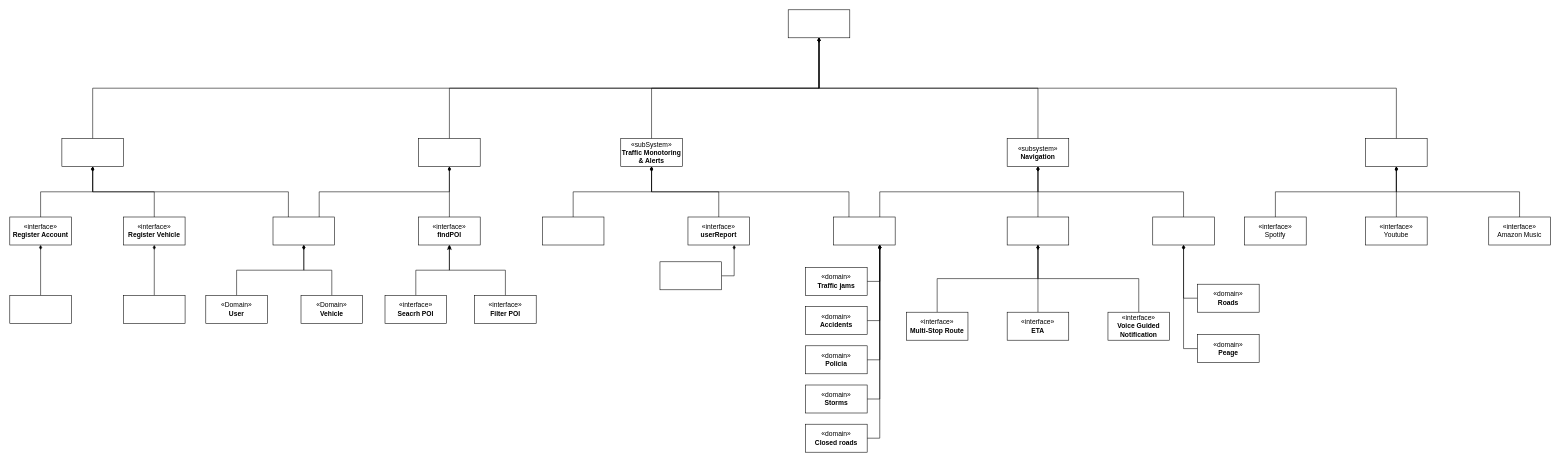
Image size: 1560x462. Some labels were removed from this diagram. Each missing label, with the centre of its shape:
"<<subsystem>> Points of Interest (POI)" belongs at point (449, 152).
"<<subSystem>> Third-Party Integration" belongs at point (1396, 152).
"«database» MapData" belongs at point (1183, 230).
"«database» MyWazeData" belongs at point (303, 230).
"«database» TrafficData" belongs at point (864, 230).
"«domain» Report" belongs at point (690, 275).
"«Domain» User Form" belongs at point (40, 309).
"«Domain» Vehicle Form" belongs at point (154, 309).
"«interface» Define Route" belongs at point (1038, 230).
"«interface» SpeedAlert" belongs at point (573, 230).
"«SubSystem» User Management" belongs at point (92, 152).
"«System» Name" belongs at point (819, 23).
